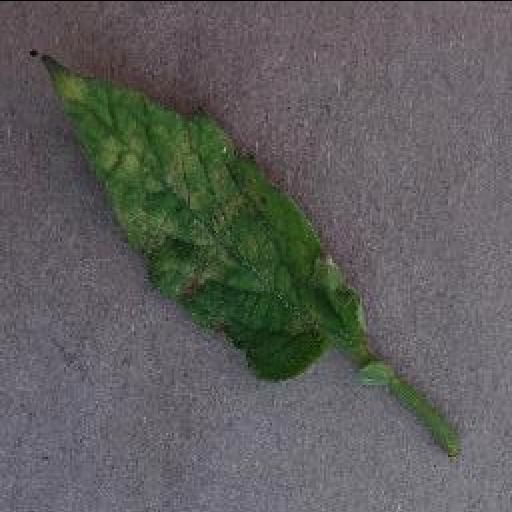disease_tomato: (45, 58, 363, 382)
